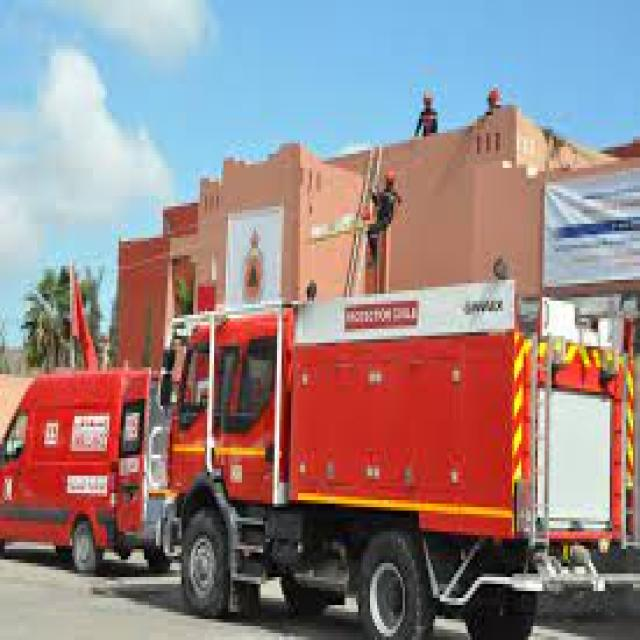ambulance: (3, 341, 145, 572)
pompier: (160, 294, 632, 630)
